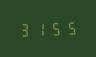five: (48, 19, 62, 36), (63, 19, 77, 35)
one: (33, 20, 47, 37)
three: (18, 21, 32, 37)
